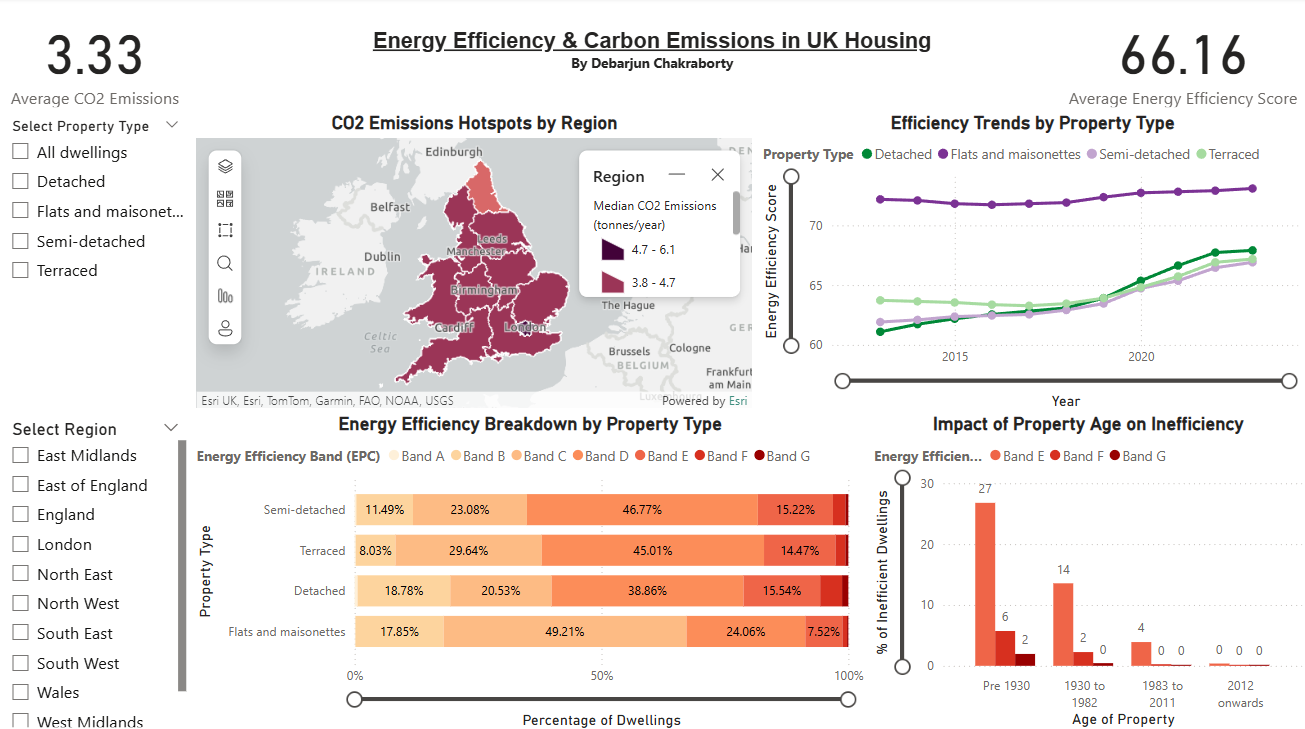

The page's visual inventory and layout, read from the dashboard file:
{"tool":"powerbi","page":{"name":"Page 1","canvas":[1280,720],"ordinal":0},"visuals":[{"type":"esriVisual","title":"CO2 Emissions Hotspots by Region","fields":{"Color":["Sum(1b.Median CO2 Emissions (tonnes/year))"],"Location":["1b.Region"]},"box":[188.3,112.5,553.9,294.7],"z":0},{"type":"lineChart","title":"Efficiency Trends by Property Type","fields":{"Category":["1b (2).Year"],"Y":["Avg(1b (2).Median Energy Efficiency Score)"],"Series":["1b (2).Property Type"]},"box":[742.3,112.5,538,294.7],"z":1000},{"type":"hundredPercentStackedBarChart","title":"Energy Efficiency Breakdown by Property Type","fields":{"Category":["1b (3).Property Type"],"Y":["Avg(1b (3).Percentage)"],"Series":["1b (3).EPC Band"]},"box":[188.3,407.2,662.8,311.8],"z":2000},{"type":"textbox","box":[347.3,25.7,583.3,70.9],"z":3000},{"type":"card","fields":{"Values":["Avg(1b (2).Median Energy Efficiency Score)"]},"box":[1037,8.6,243.3,103.9],"z":4000},{"type":"card","fields":{"Values":["Avg(1b.Median CO2 Emissions (tonnes/year))"]},"box":[0,8.6,188.3,103.9],"z":5000},{"type":"slicer","fields":{"Values":["1b (2).Region"]},"box":[0,407.2,188.3,311.8],"z":6000},{"type":"clusteredColumnChart","title":"Impact of Property Age on Inefficiency","fields":{"Y":["Avg(1d.Percentage)"],"Category":["1d.Age of Property"],"Series":["1d.EPC Band"]},"box":[851.1,407.2,429.2,311.8],"z":7000},{"type":"slicer","fields":{"Values":["1b.Property Type"]},"box":[0,112.5,188.3,294.7],"z":8000}]}

Visuals, with their boxes in screenshot pixels (x1, y1, x2, y2), scaled from the page's 1280x720 canvas onto the 1305x729 screenshot:
"CO2 Emissions Hotspots by Region" esriVisual: left=192, top=114, right=757, bottom=412
"Efficiency Trends by Property Type" lineChart: left=757, top=114, right=1304, bottom=412
"Energy Efficiency Breakdown by Property Type" hundredPercentStackedBarChart: left=192, top=412, right=868, bottom=728
textbox: left=354, top=26, right=949, bottom=98
card - Avg(1b (2).Median Energy Efficiency Score): left=1057, top=9, right=1304, bottom=114
card - Avg(1b.Median CO2 Emissions (tonnes/year)): left=0, top=9, right=192, bottom=114
slicer - 1b (2).Region: left=0, top=412, right=192, bottom=728
"Impact of Property Age on Inefficiency" clusteredColumnChart: left=868, top=412, right=1304, bottom=728
slicer - 1b.Property Type: left=0, top=114, right=192, bottom=412
